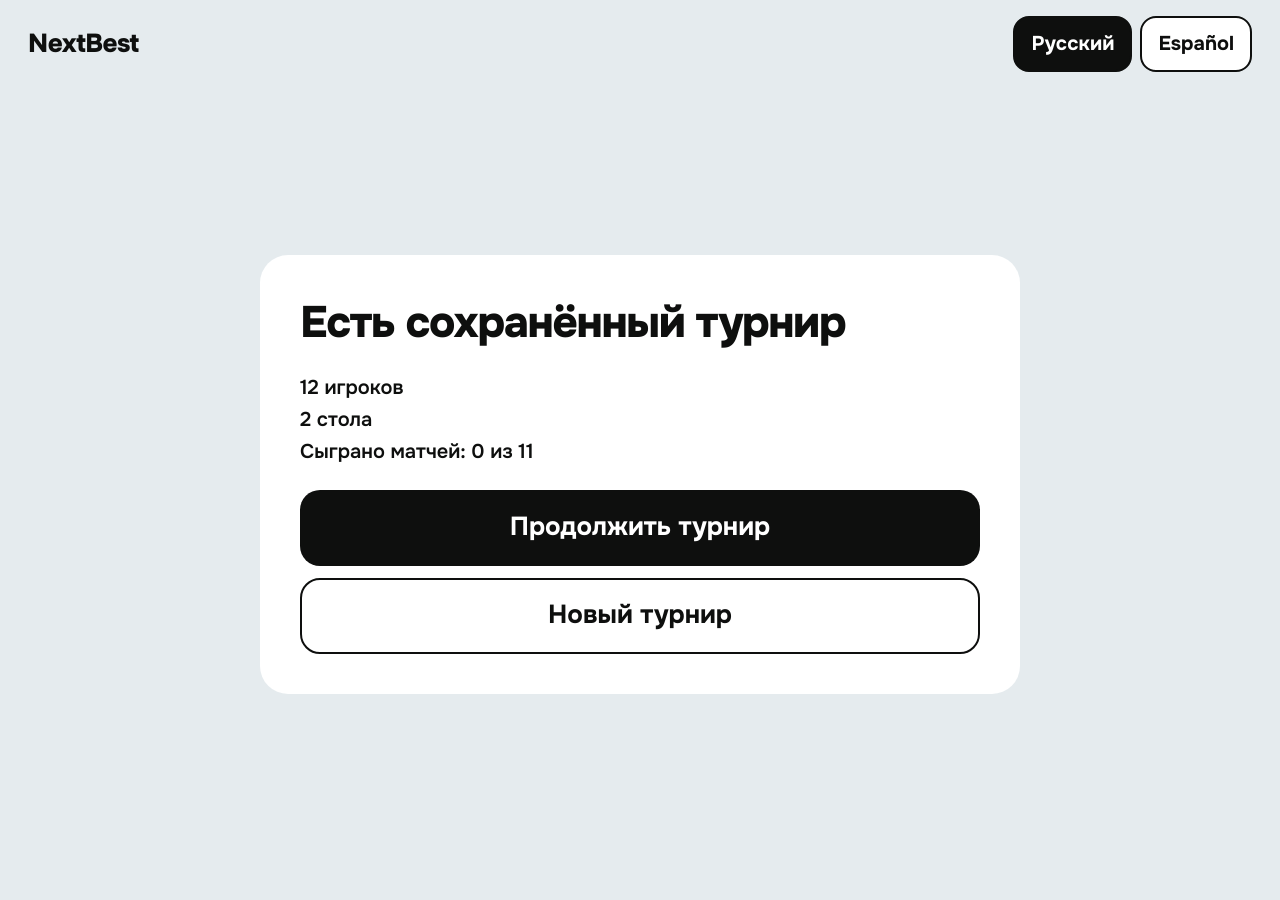
Test: tapping a winner › applies pickWinner, saves once with history, refills the table and marks it NEW
Step 1. Click the button "Продолжить турнир" → (640, 528), box left=300, top=490, right=980, bottom=566
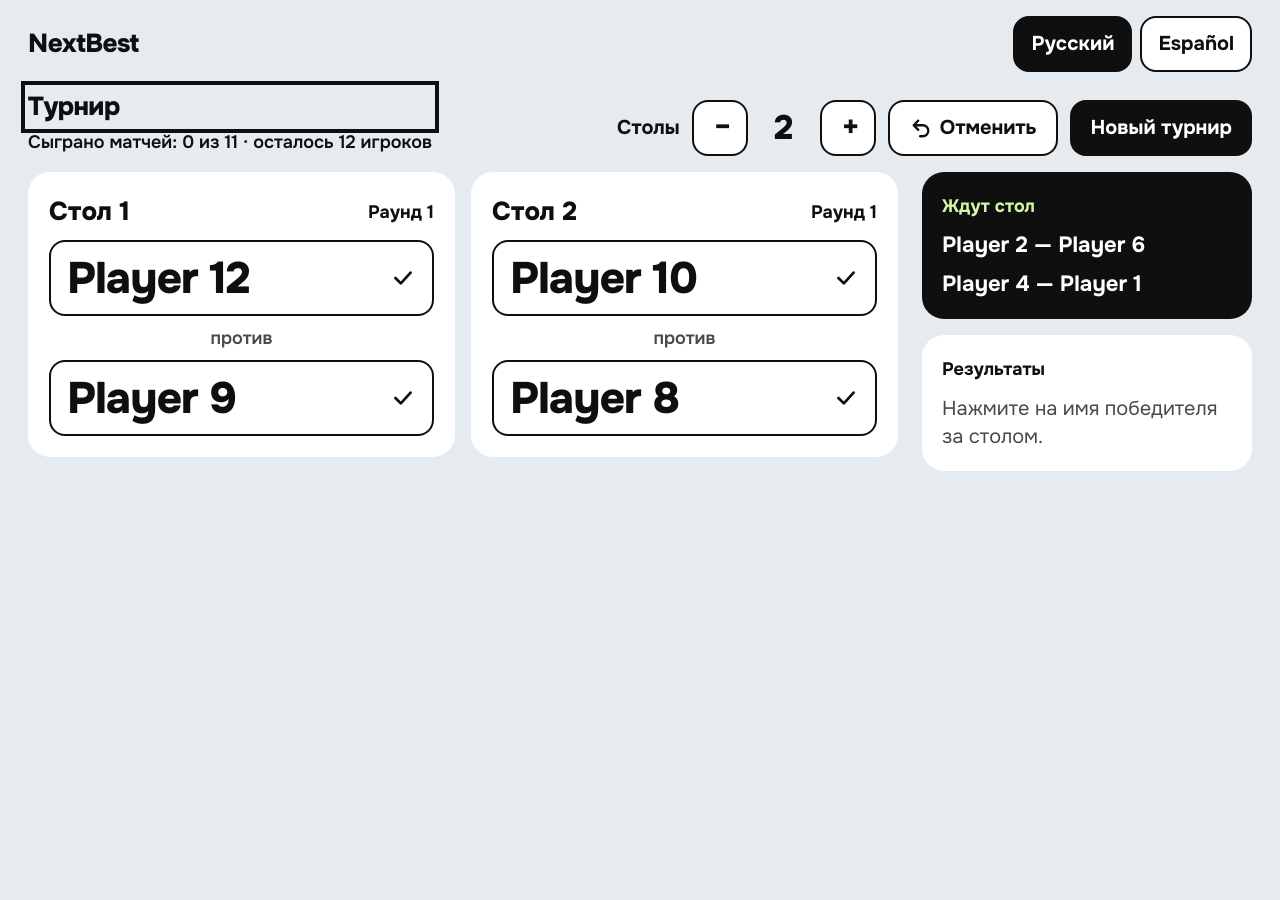
Step 2. Click the button "Player 9" → (151, 398), box left=49, top=360, right=434, bottom=436
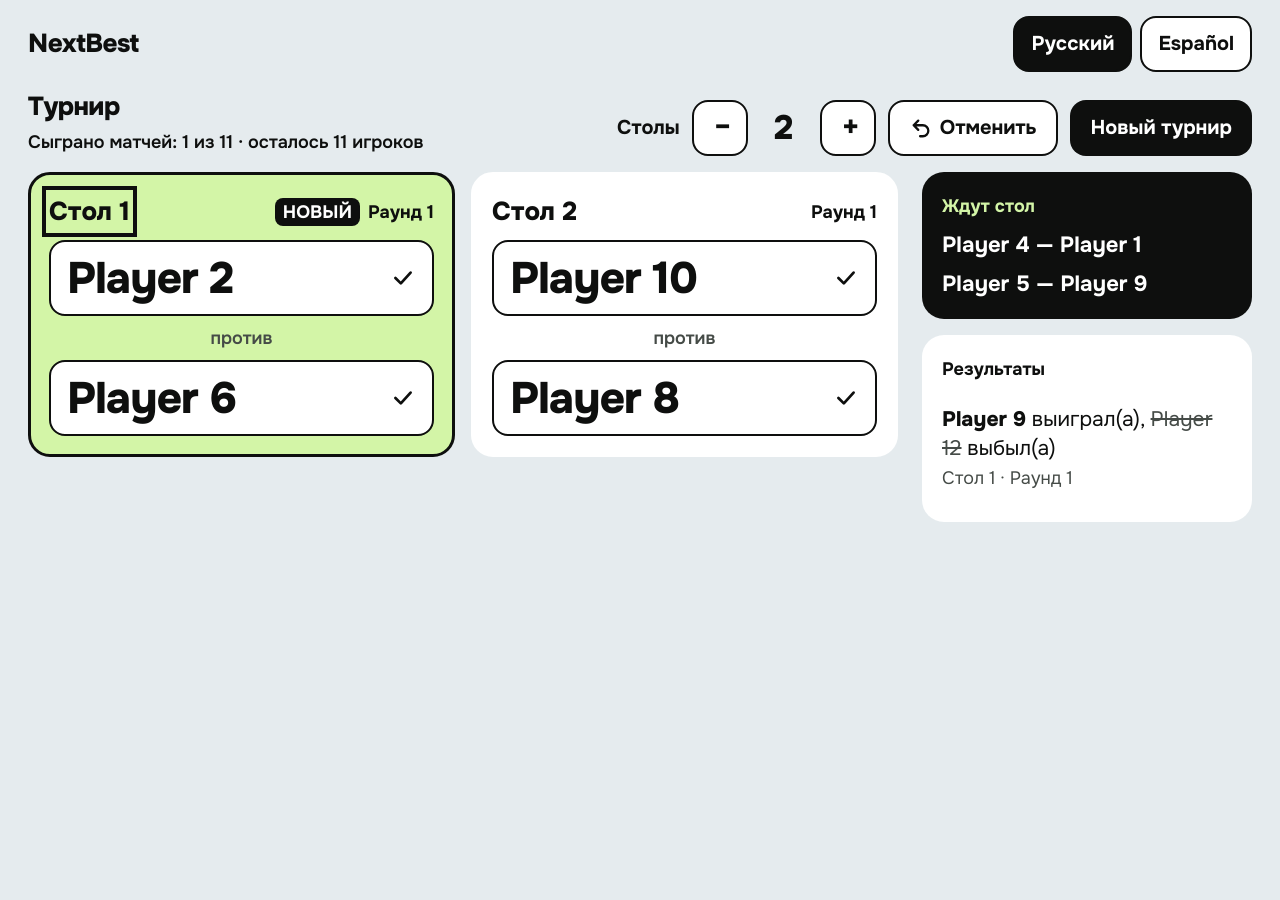
Now the text "Сыграно матчей: 1 из 11 · осталось 11 игроков" is shown, box left=28, top=128, right=424, bottom=156
